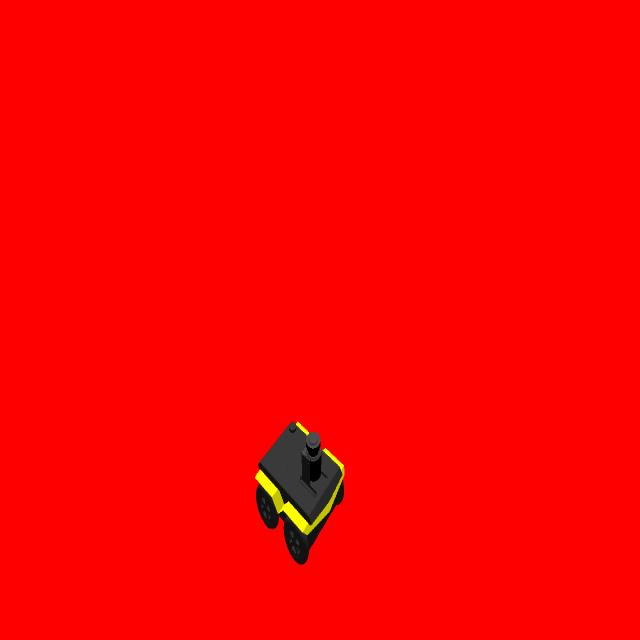jackal: (254, 414, 345, 569)
